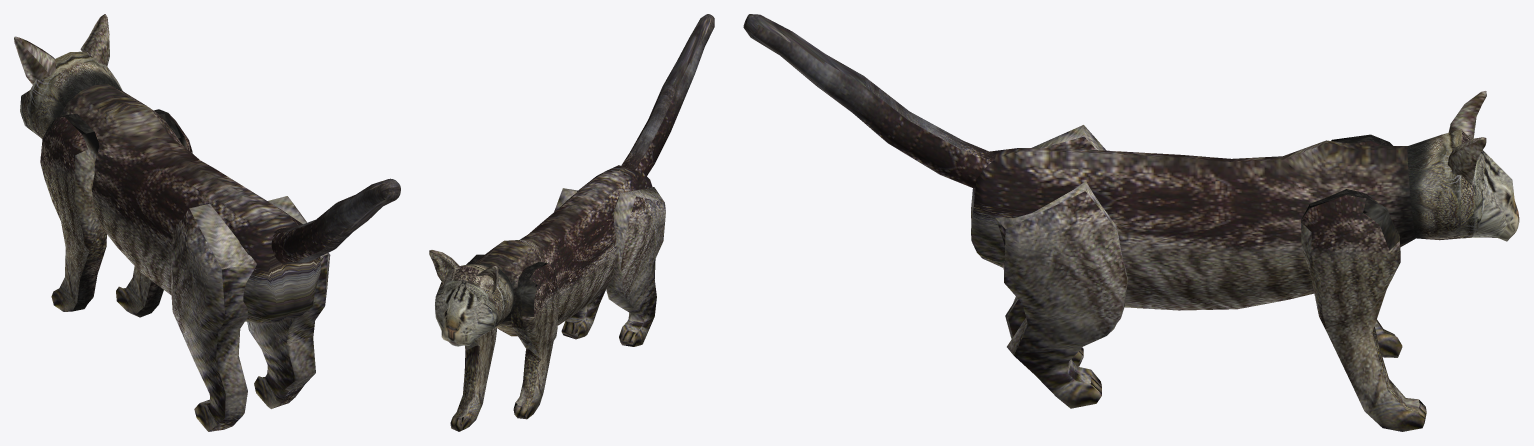
Rendered from purry_2.obj.
3 renders of one model, left to right at view 1: azimuth 30°, elevation 25°; view 2: azimuth 150°, elevation 25°; view 3: azimuth 270°, elevation 25°, orthographic. The views are drawn at different scales.
Bounding box in the file's own units: 2.1 × 5.79 × 10.36.
